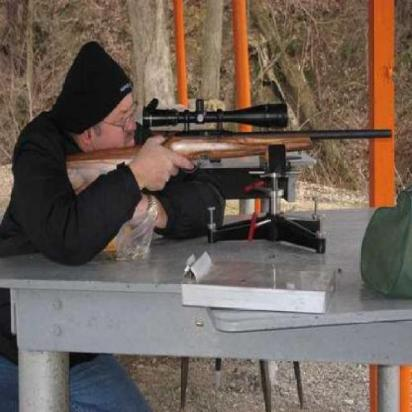Gun: (66, 102, 390, 194)
